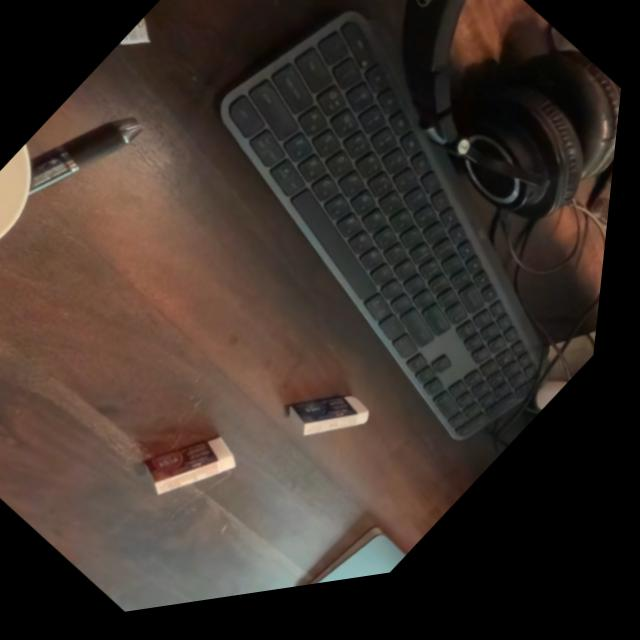blue: (266, 357, 401, 495)
red: (120, 392, 273, 550)
